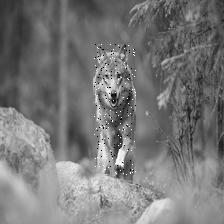WOLF: (93, 45, 135, 176)
